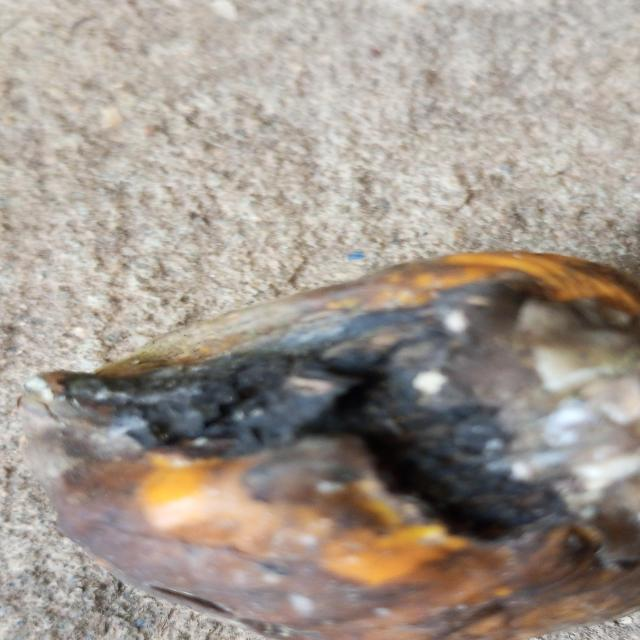damaged: (20, 253, 640, 640)
